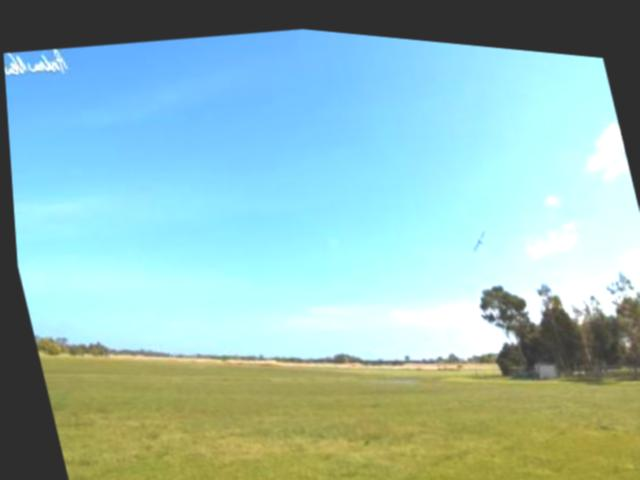uav: (462, 213, 492, 248)
